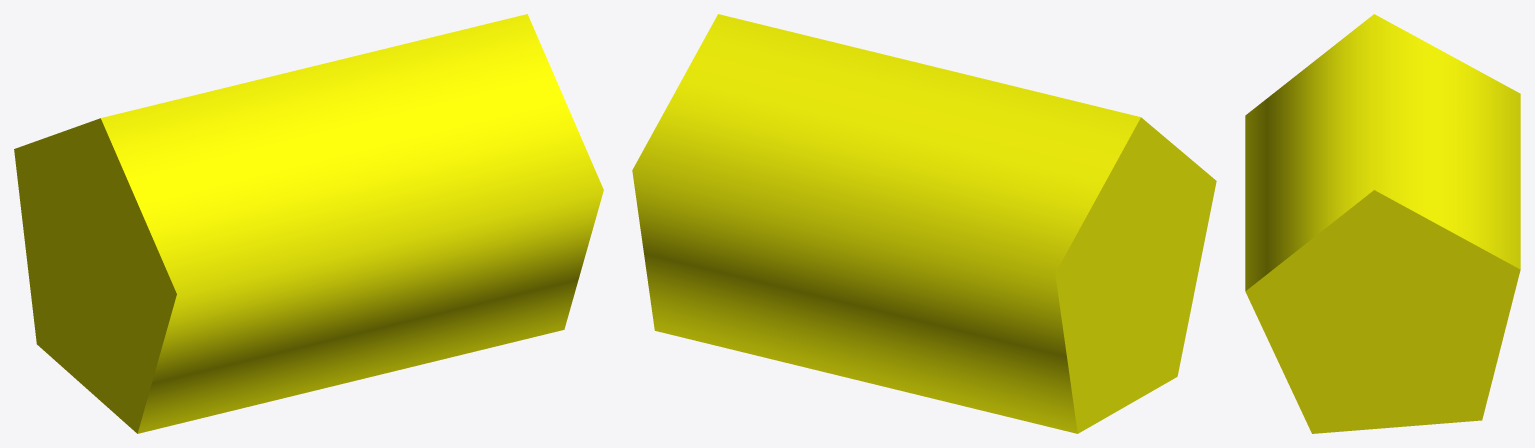
The model's file is shell_pistol.glb.
The picture shows the model from 3 angles, left to right: view 1: azimuth 30°, elevation 25°; view 2: azimuth 150°, elevation 25°; view 3: azimuth 270°, elevation 25°; orthographic projection. The views are drawn at different scales.
Visible parts, largest first — view 1: shell_pistol; view 2: shell_pistol; view 3: shell_pistol.
Boxes of the visible parts, <box> form: shell_pistol: <box>14,14,603,433</box>; shell_pistol: <box>632,14,1216,433</box>; shell_pistol: <box>1245,14,1520,433</box>.
Bounding box in the file's own units: 0.0915 × 0.0592 × 0.0605.
1 material, 1 textured.
